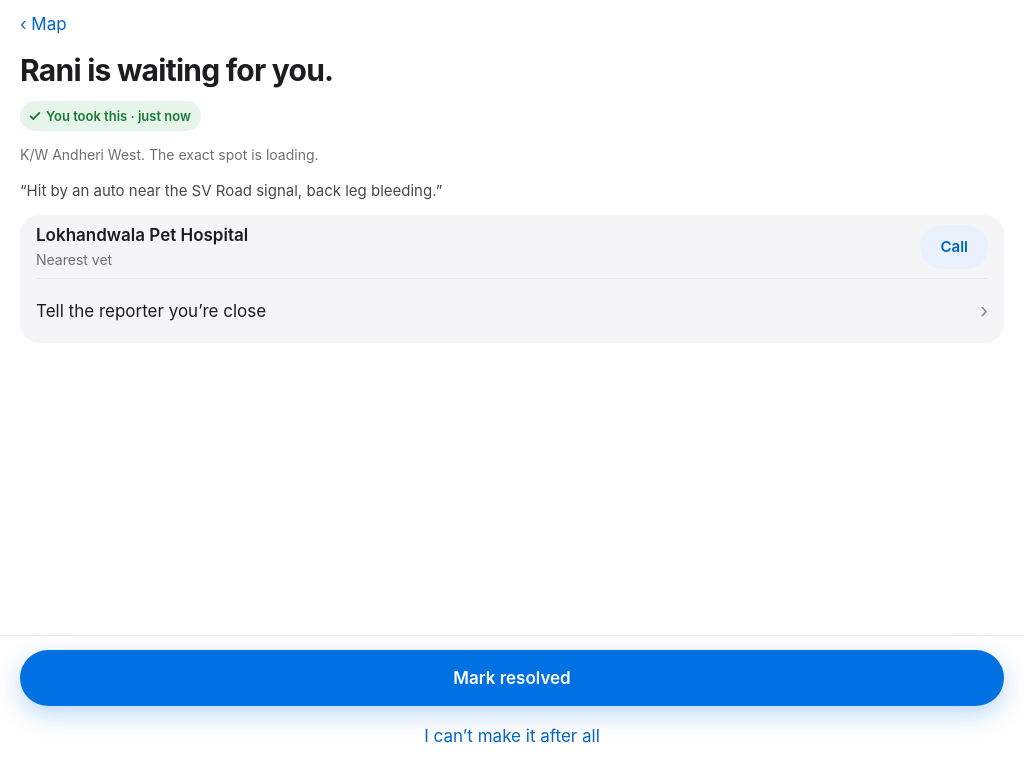
Scenario: /sos/[caseId] (design v6) › P11: close with an outcome and a vet, then V21 says what happened
Click the button "Mark resolved": [512, 678] box [20,650,1004,706]
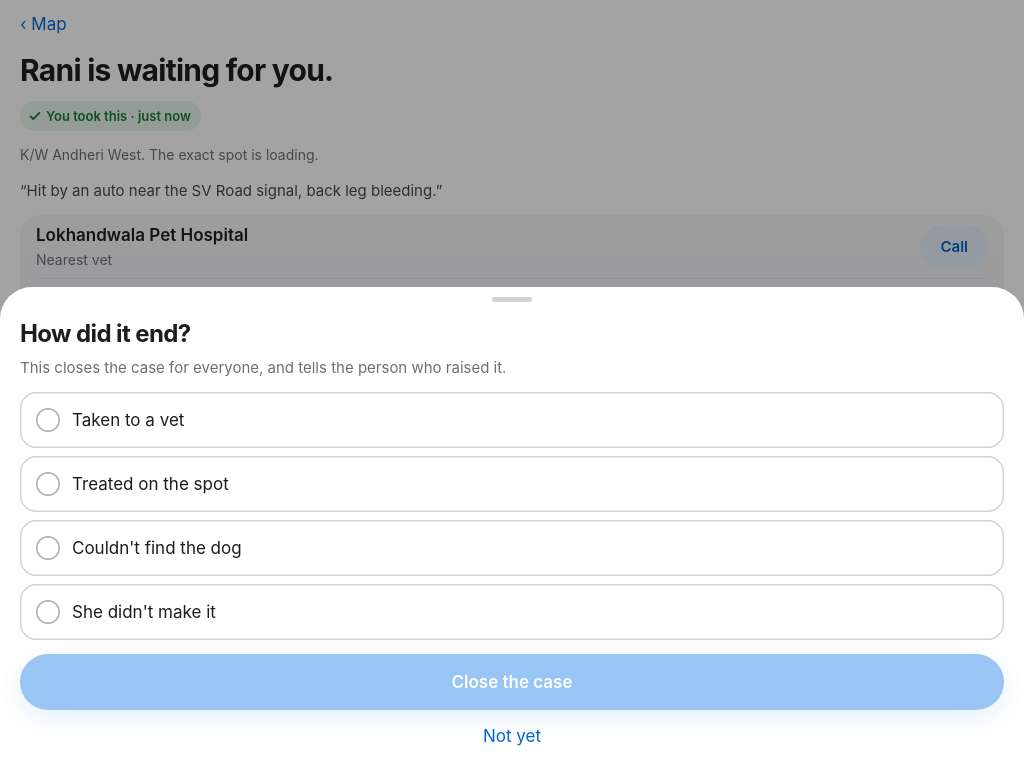
Now the dialog "How did it end?" is shown
Now the radio button labelled "She didn't make it" is shown, box [20,584,1004,640]
Now the button "Close the case" is disabled, box [20,654,1004,710]
Click the radio button labelled "Taken to a vet": [128, 420] box [20,392,1004,448]
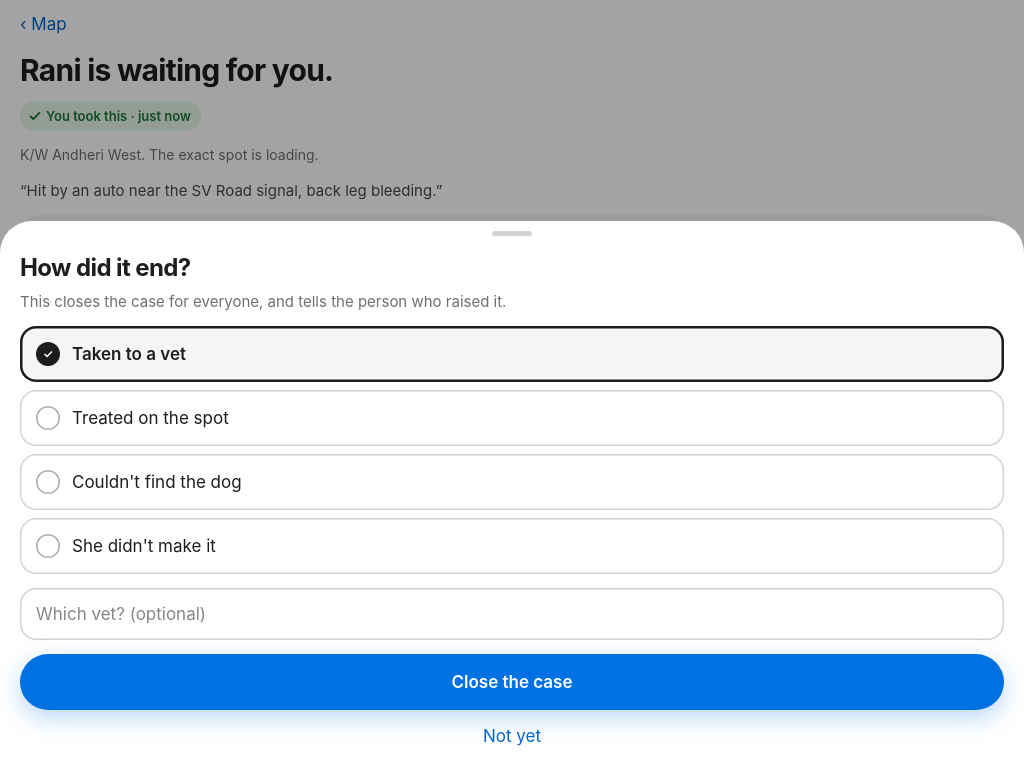
In the field labelled "Which vet? (optional)": [512, 614] box [20,588,1004,640], type "Lokhandwala Pet Hospital"
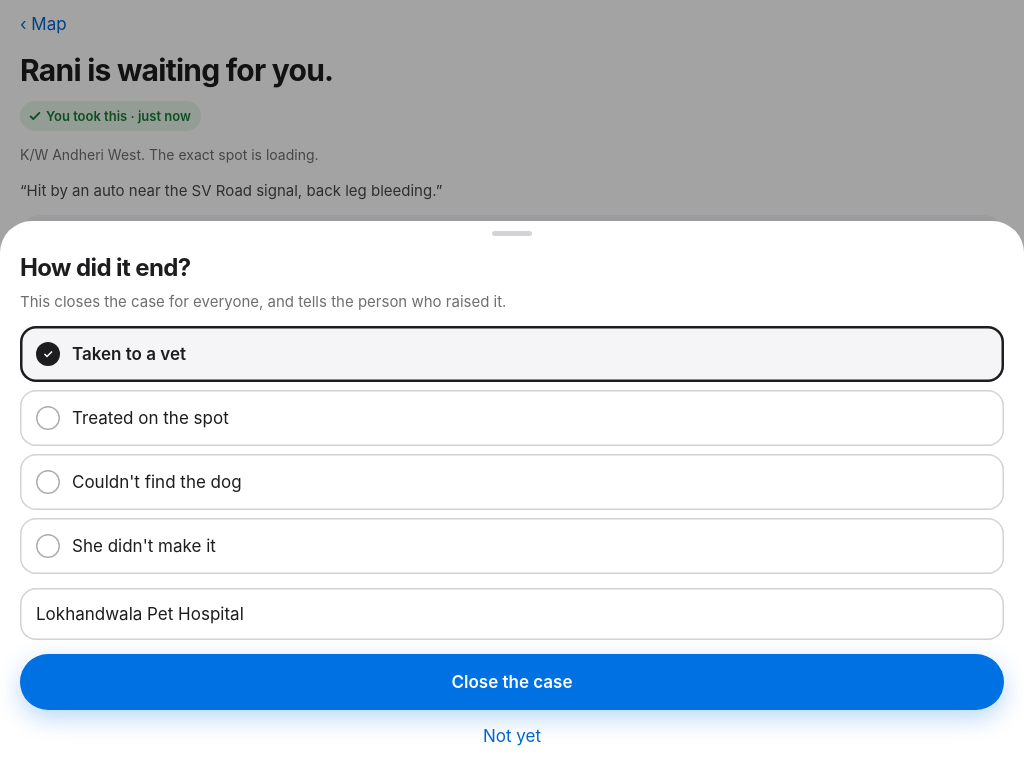
Click the button "Close the case": [512, 682] box [20,654,1004,710]
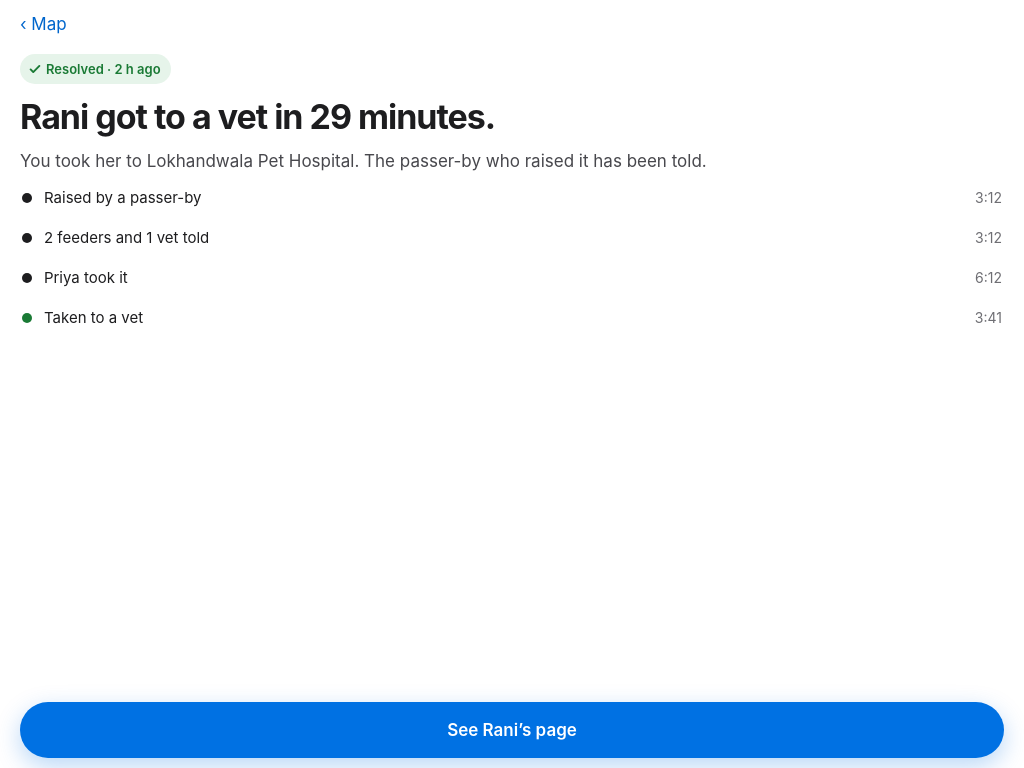
Now the heading "Rani got to a vet in 29 minutes." is shown, box [20,96,495,137]
Now the text "You took her to Lokhandwala Pet Hospital. The passer-by who raised it has been told." is shown, box [20,151,707,171]
